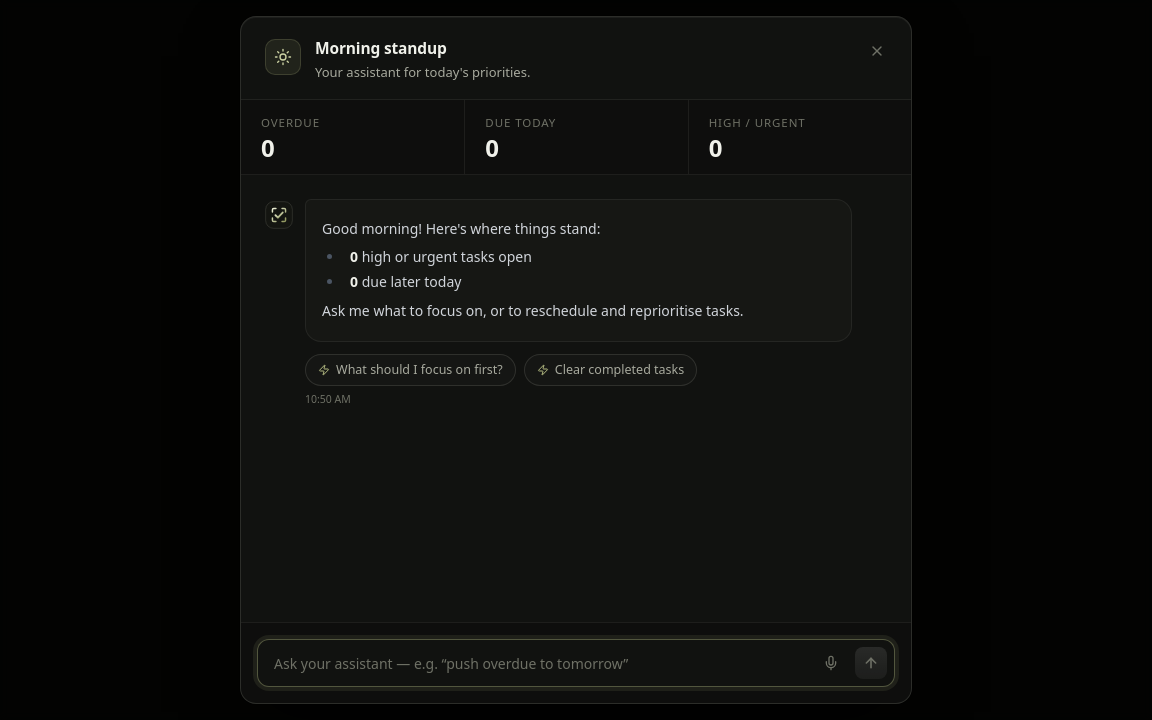
it: MorningStandupModal › shows applied AI changes without crashing (regression: missing CheckCircle import)
Type "Make the hotfix urgent" into the field with placeholder "Ask your assistant — e.g. “push overdue to tomorrow”". click: (576, 663)
box: [257,639,895,687]
Then press Enter
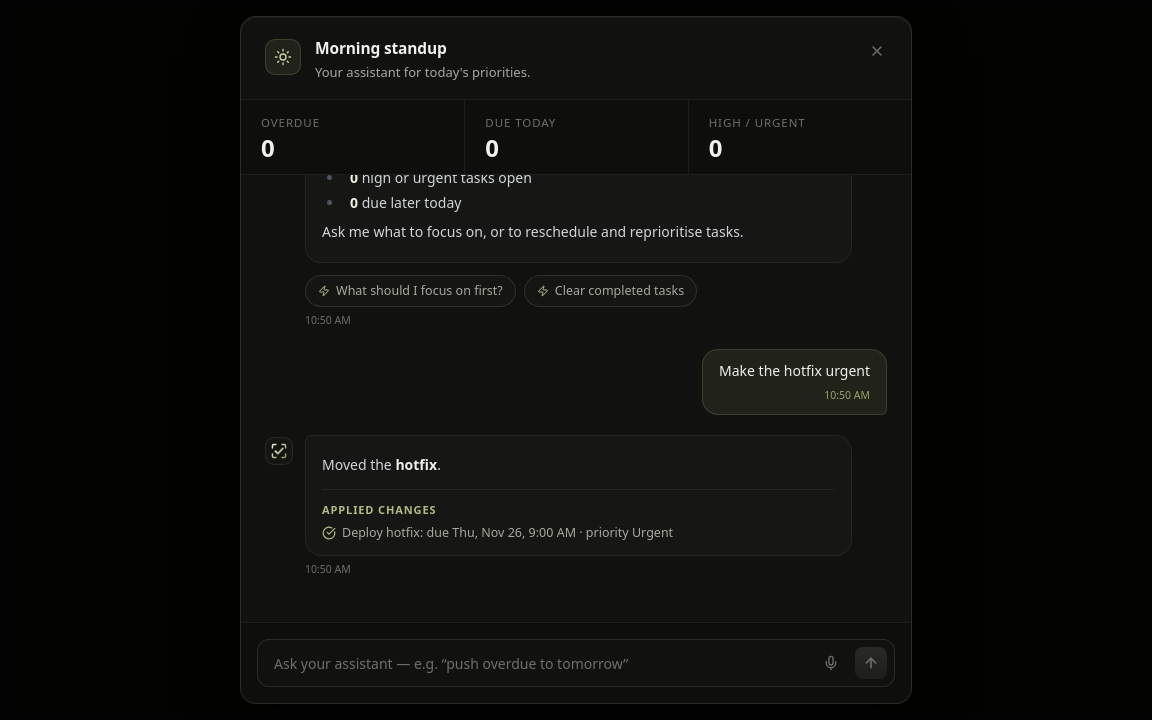
Check: the text "Applied Changes" is shown, box [322,502,436,517]
Check: the text "Deploy hotfix: due Thu, Nov 26, 9:00 AM · priority Urgent" is shown, box [342,524,673,543]
